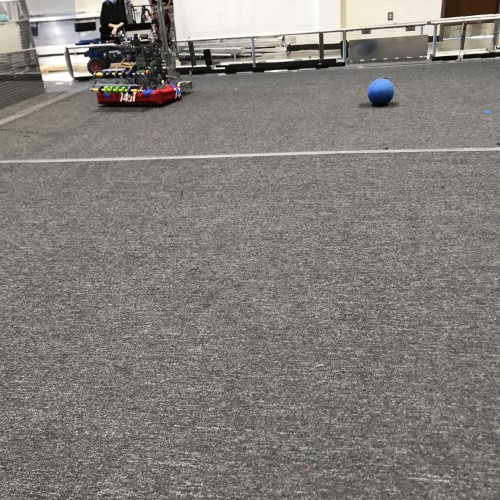blue: (366, 78, 396, 106)
